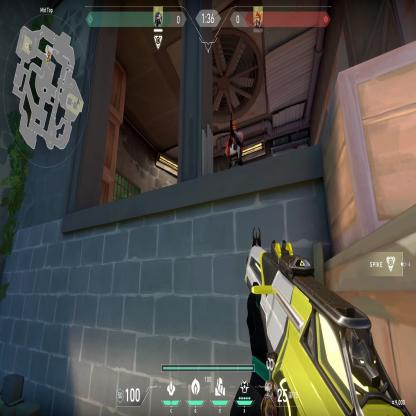enemy: (224, 115, 245, 171)
